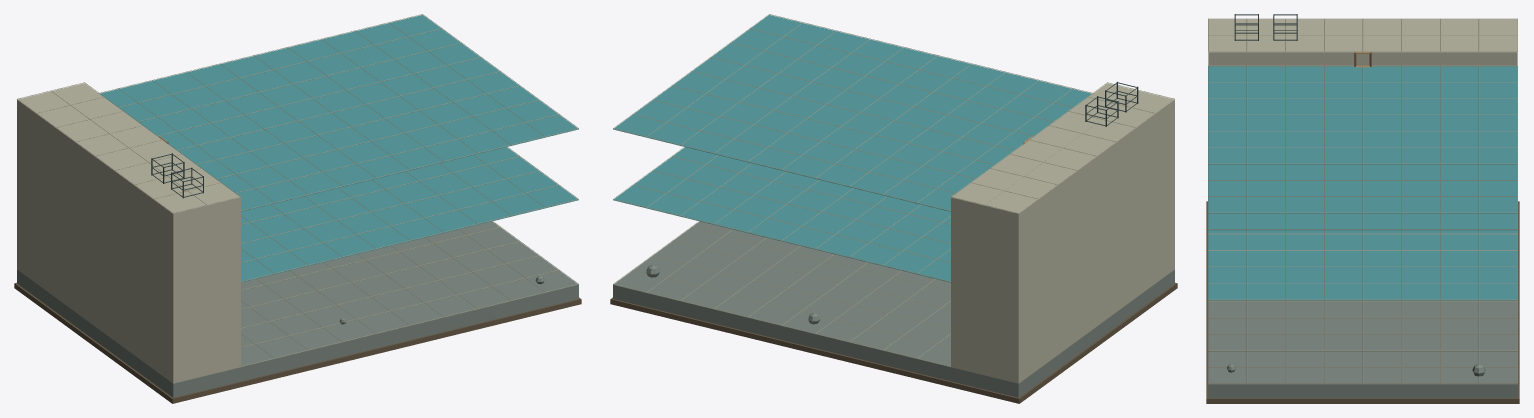
The model's file is tide-pool.obj.
The picture shows the model from 3 angles, left to right: view 1: azimuth 30°, elevation 25°; view 2: azimuth 150°, elevation 25°; view 3: azimuth 270°, elevation 25°; orthographic projection.
Visible parts, largest first — view 1: water-high, architecture, ground, water-low, grid-high, grid, grid-low, details; view 2: water-high, architecture, ground, water-low, grid-high, grid, grid-low, details; view 3: water-high, ground, water-low, architecture, grid-high, grid, grid-low, details.
Boxes of the visible parts, x1,y1,x2,y2 form: water-high: (100,15,578,211); architecture: (17,83,240,383); ground: (14,221,581,403); water-low: (241,147,578,282); grid-high: (98,14,578,210); grid: (17,82,578,366); grid-low: (241,147,578,281); details: (151,136,544,324); water-high: (613,15,1091,211); architecture: (951,83,1174,383); ground: (610,221,1177,403); water-low: (613,147,950,282); grid-high: (613,14,1093,210); grid: (613,82,1174,366); grid-low: (613,147,950,281); details: (646,81,1138,324); water-high: (1208,66,1517,230); ground: (1206,201,1519,403); water-low: (1208,230,1517,300); architecture: (1208,19,1517,66); grid-high: (1208,65,1517,229); grid: (1208,18,1517,383); grid-low: (1208,230,1517,299); details: (1227,14,1485,376).
Bounding box in the file's own units: 60.5 × 29.1 × 40.5.
